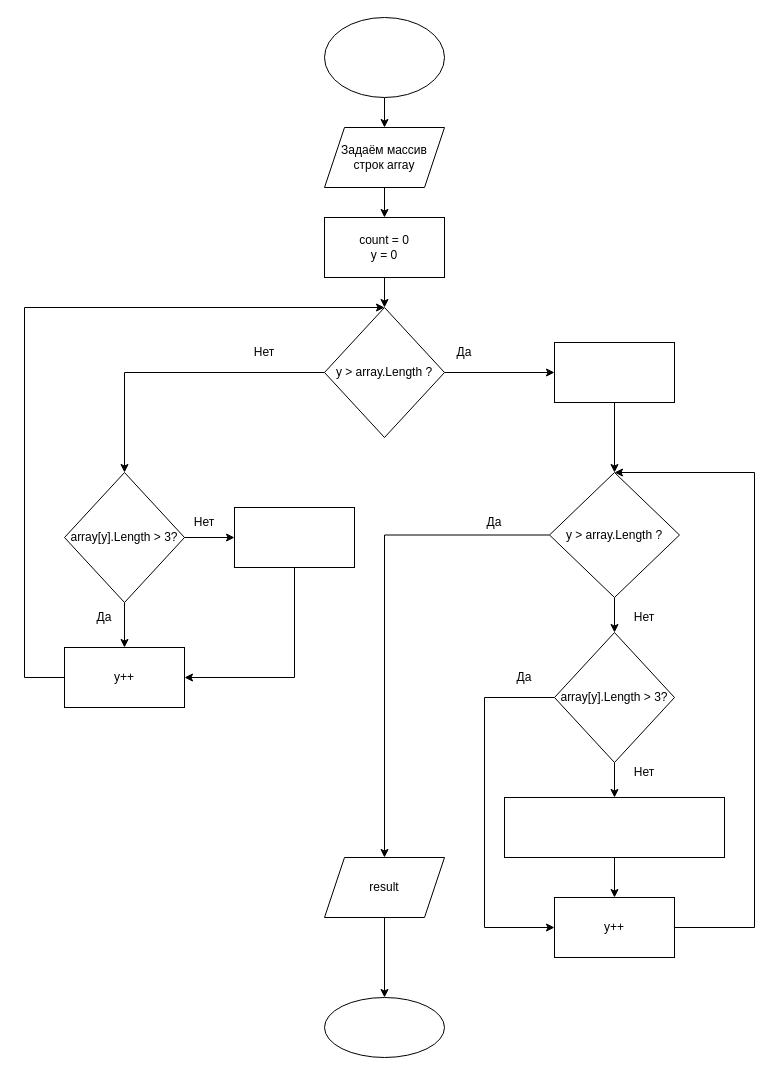
Image size: 780x1075. Some labels were removed from this diagram. The centre of each missing label's shape, as x and y in pixels:
count++: point 294,537
result [result.Length - count ] = array[y] count--: point 614,827
string[] result = new string[count] y = 0: point 614,372
Конец: point 384,1027
Начало: point 384,57
